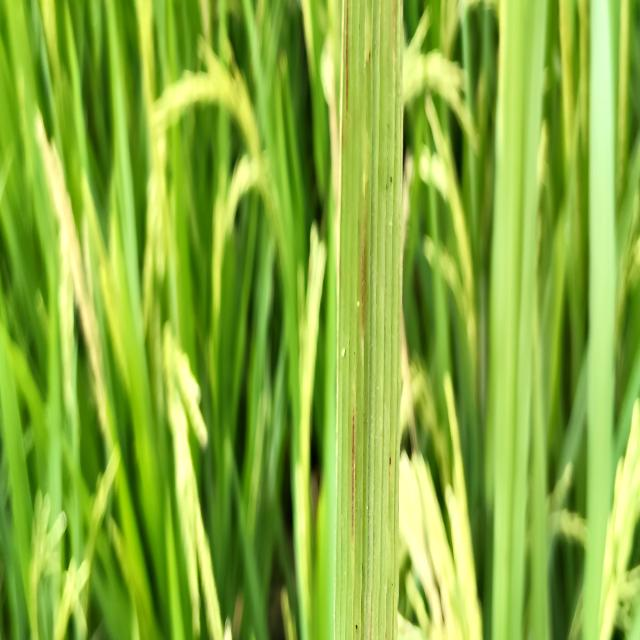NBS: (360, 221, 366, 332), (351, 411, 355, 540), (345, 0, 349, 117), (368, 609, 372, 640), (385, 637, 386, 640)
